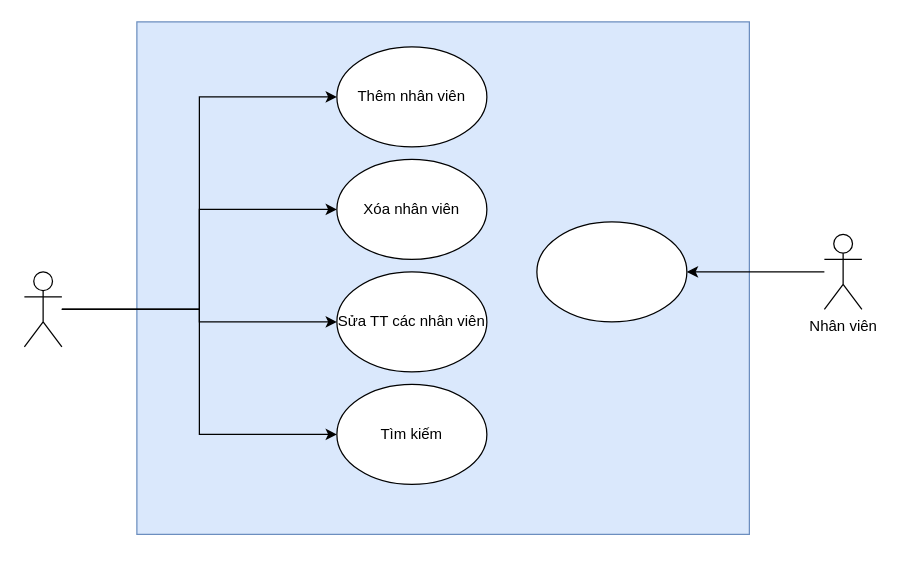
Some shapes in this 899 by 566 pixel diagram are drawn without their labels. Here are the shapes that lost their labels. From the top down, the box of each, then its label:
(536, 221, 687, 322): Sửa TT cá nhân
(23, 271, 62, 347): Admin
